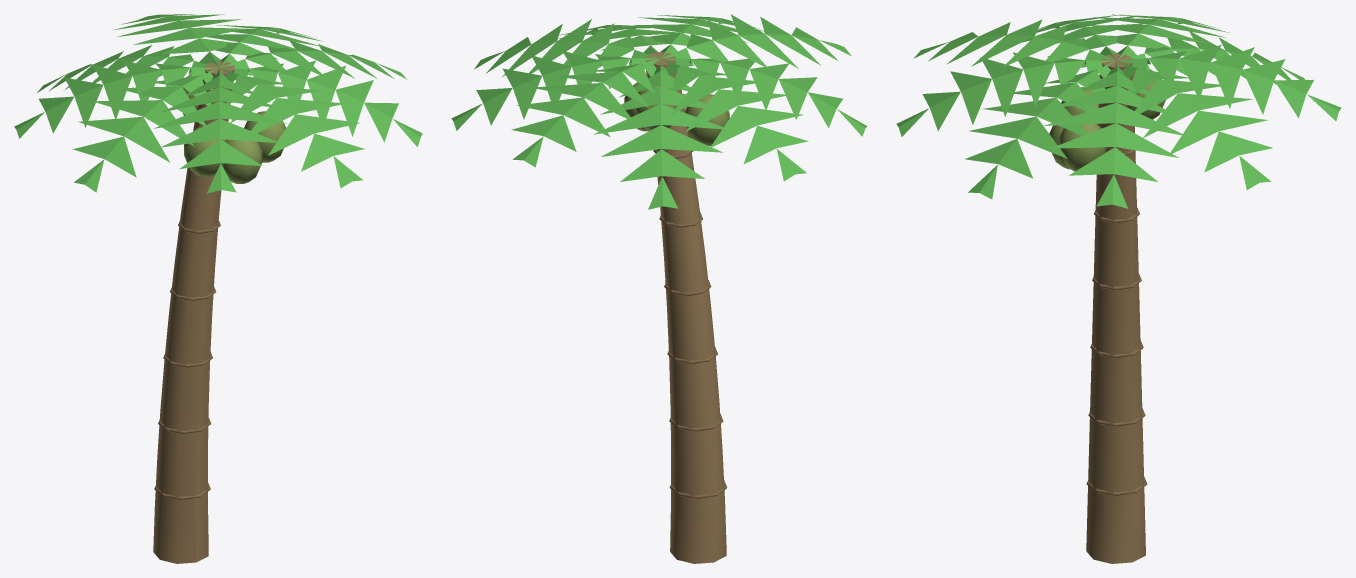
The model's file is coconut-palm.glb.
3 views of the same model, side by side, from view 1: azimuth 30°, elevation 25°; view 2: azimuth 150°, elevation 25°; view 3: azimuth 270°, elevation 25° (orthographic). The views are drawn at different scales.
Bounding box in the file's own units: 5.1 × 6.69 × 5.22.
